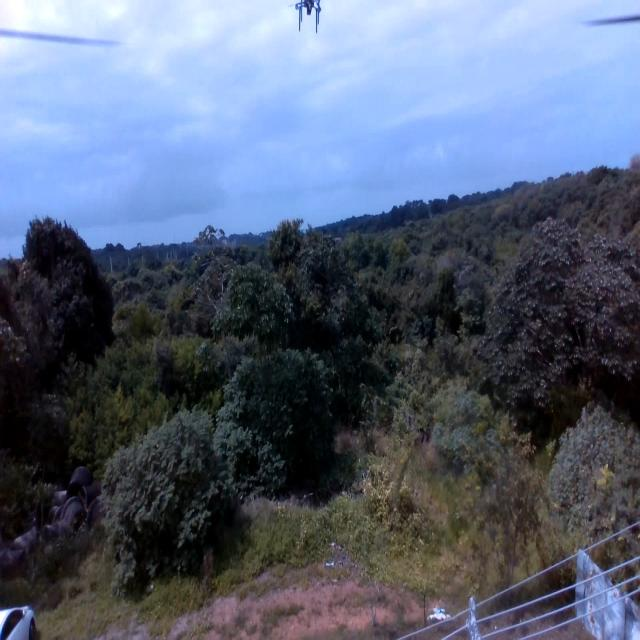-uav-: (291, 0, 325, 39)
